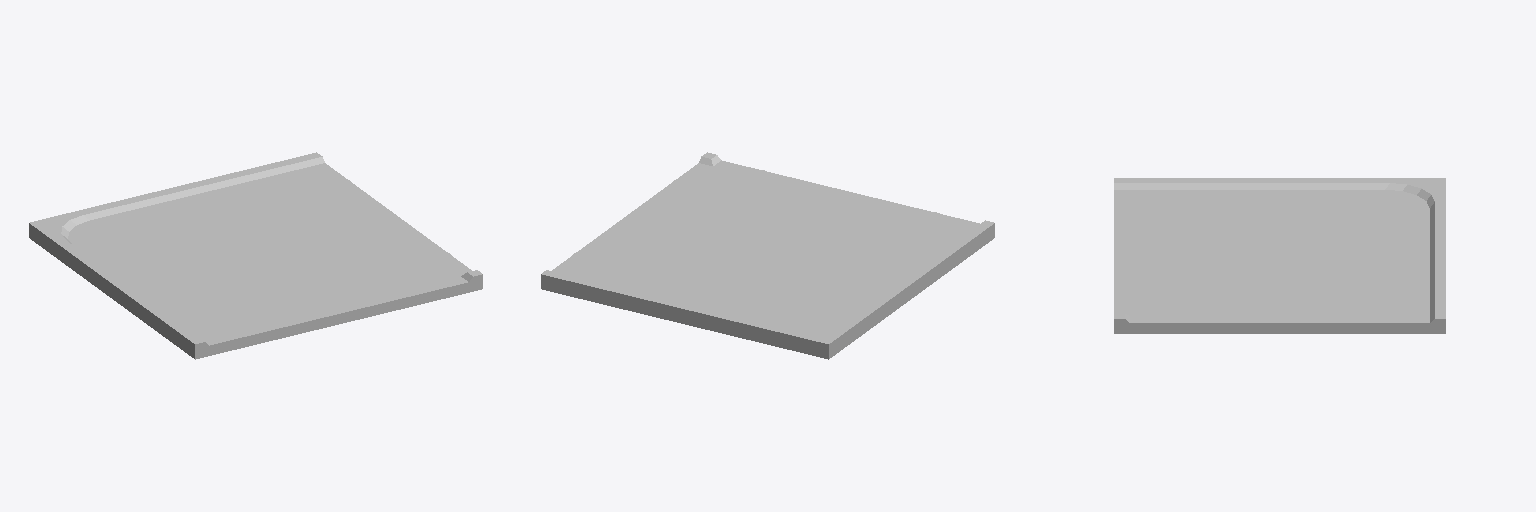
Rendered from road_corner.obj.
The picture shows the model from 3 angles: view 1: azimuth 30°, elevation 25°; view 2: azimuth 150°, elevation 25°; view 3: azimuth 270°, elevation 25°; orthographic projection.
Parts seen in each view (by area): view 1: road_corner_Cube.948; view 2: road_corner_Cube.948; view 3: road_corner_Cube.948.
Part boxes in pixels (x1,y1,x2,y2): road_corner_Cube.948: (29,152,482,359); road_corner_Cube.948: (541,152,994,359); road_corner_Cube.948: (1114,178,1445,333).
Size of the model in its own units: 2 by 0.1 by 2.